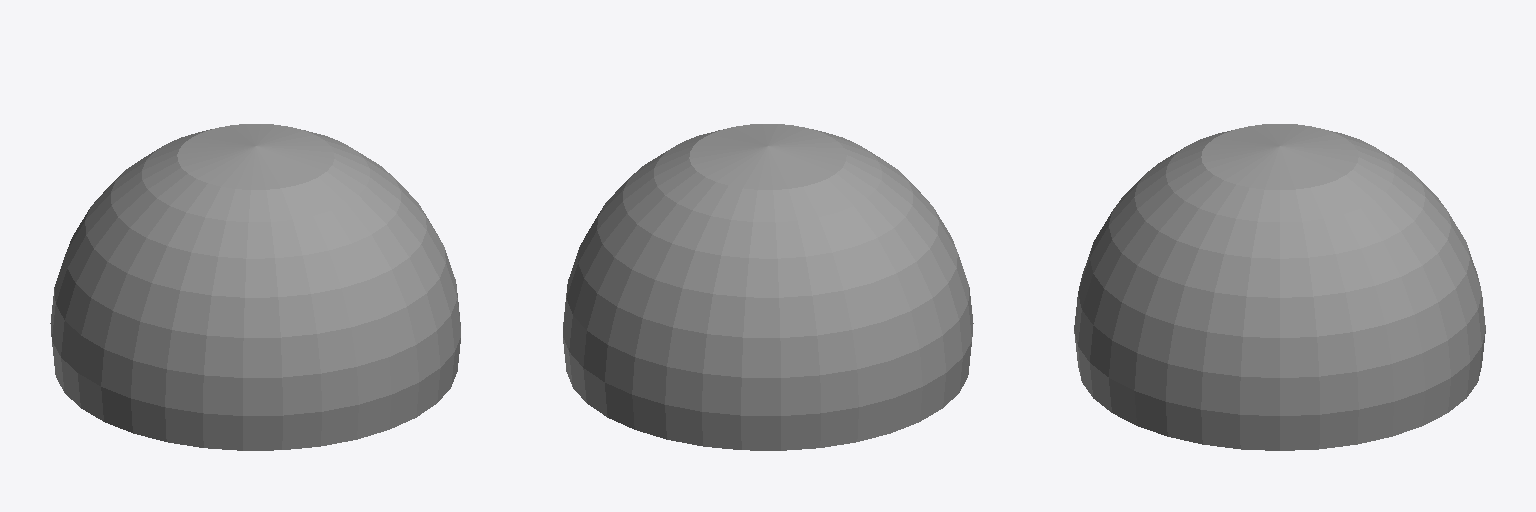
File: sky.obj
3 renders of one model, left to right at view 1: azimuth 30°, elevation 25°; view 2: azimuth 150°, elevation 25°; view 3: azimuth 270°, elevation 25°, orthographic.
Size of the model in its own units: 94.62 by 55.63 by 94.62.